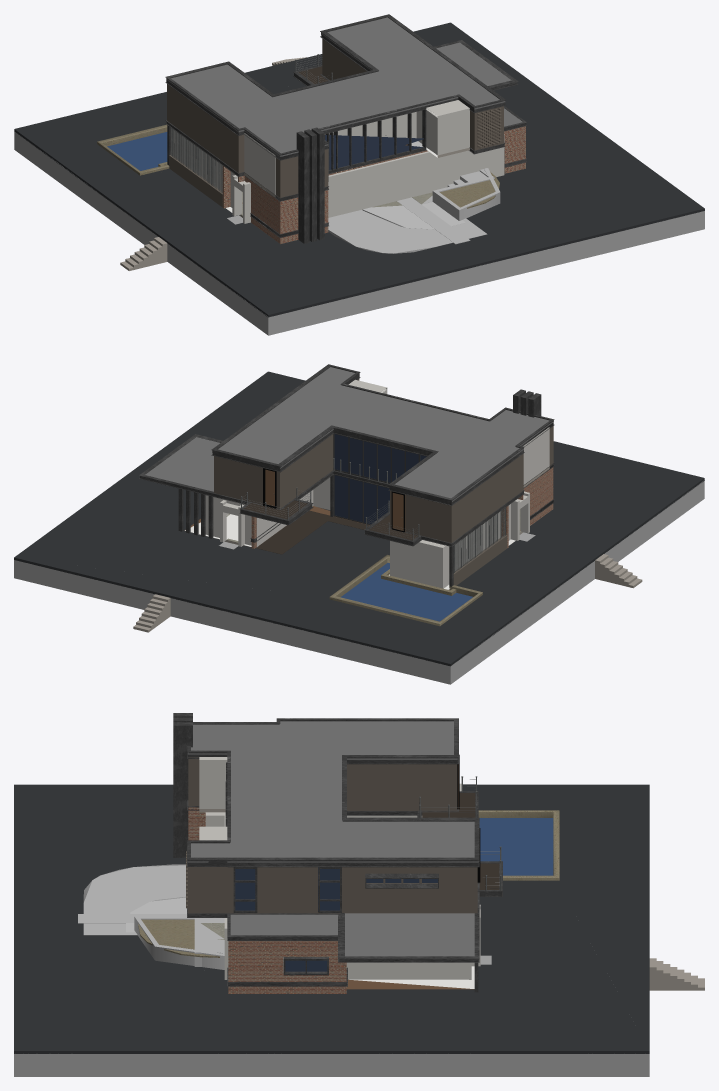
Rendered from pool-villa.dress-v1.lod0.glb.
The picture shows the model from 3 angles, top to bottom: view 1: azimuth 30°, elevation 25°; view 2: azimuth 150°, elevation 25°; view 3: azimuth 270°, elevation 25°; orthographic projection. The views are drawn at different scales.
Parts seen in each view (by area): view 1: Rectangle001_Material #26_0, Box001_Material #8_0, Line001_Material #1_0, Line064_Material #3_0, Cylinder001_Material #7_0; view 2: Rectangle001_Material #26_0, Box001_Material #8_0, Cylinder001_Material #7_0, Line064_Material #3_0, Line001_Material #1_0; view 3: Rectangle001_Material #26_0, Box001_Material #8_0, Line001_Material #1_0, Line064_Material #3_0.
Part boxes in pixels (x1=…): Rectangle001_Material #26_0: x1=14, y1=17, x2=704, y2=335; Box001_Material #8_0: x1=165, y1=14, x2=526, y2=243; Line001_Material #1_0: x1=222, y1=126, x2=525, y2=243; Line064_Material #3_0: x1=97, y1=124, x2=499, y2=208; Cylinder001_Material #7_0: x1=171, y1=54, x2=332, y2=192; Rectangle001_Material #26_0: x1=14, y1=367, x2=704, y2=684; Box001_Material #8_0: x1=139, y1=364, x2=554, y2=586; Cylinder001_Material #7_0: x1=241, y1=458, x2=505, y2=573; Line064_Material #3_0: x1=329, y1=554, x2=482, y2=626; Line001_Material #1_0: x1=251, y1=467, x2=553, y2=548; Rectangle001_Material #26_0: x1=14, y1=721, x2=704, y2=1076; Box001_Material #8_0: x1=173, y1=713, x2=502, y2=992; Line001_Material #1_0: x1=188, y1=807, x2=346, y2=993; Line064_Material #3_0: x1=138, y1=810, x2=559, y2=957.
Size of the model in its own units: 37.75 by 9.62 by 38.05.
9 materials, 6 textured.
